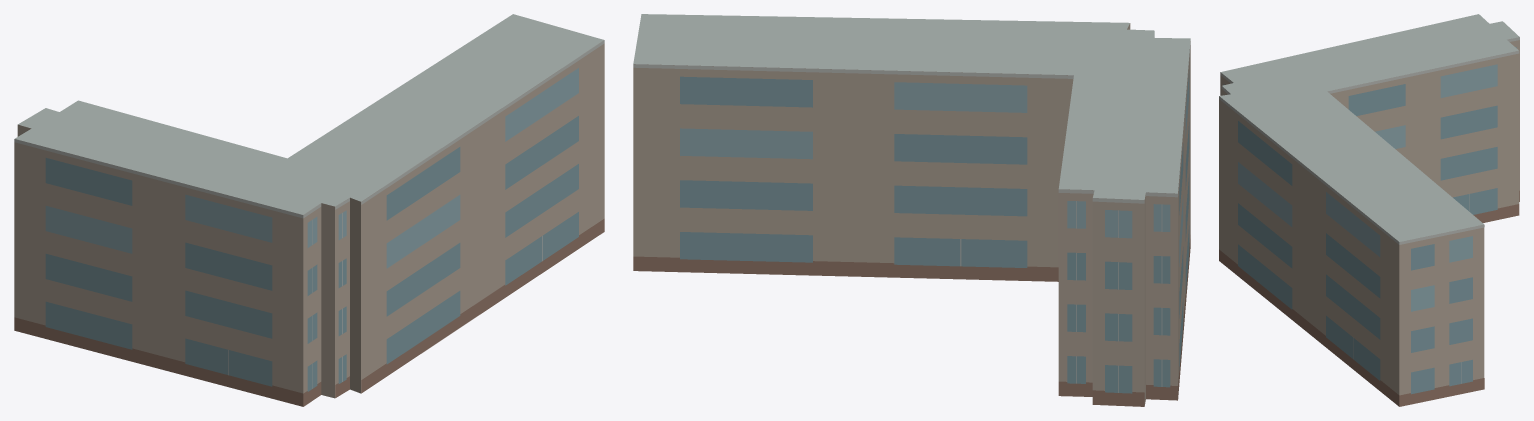
The model's file is survey-upis-32961025.glb.
3 renders of one model, left to right at view 1: azimuth 30°, elevation 25°; view 2: azimuth 150°, elevation 25°; view 3: azimuth 270°, elevation 25°, orthographic. The views are drawn at different scales.
Parts seen in each view (by area): view 1: survey-upis-32961025.tmp; view 2: survey-upis-32961025.tmp; view 3: survey-upis-32961025.tmp.
Boxes of the visible parts, x1,y1,x2,y2 form: survey-upis-32961025.tmp: (14, 14, 604, 406); survey-upis-32961025.tmp: (633, 14, 1190, 406); survey-upis-32961025.tmp: (1219, 14, 1519, 406).
Bounding box in the file's own units: 40.65 × 13.7 × 22.66.
